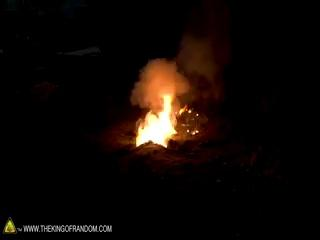Fire: (131, 79, 185, 147)
